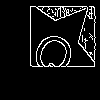Q: (27, 22, 83, 82)
